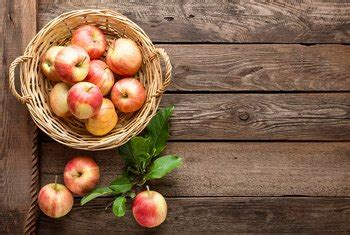apple: (58, 153, 103, 198), (63, 80, 103, 122), (50, 43, 92, 82), (104, 37, 144, 77), (108, 78, 149, 117), (131, 189, 168, 229), (39, 182, 74, 220)
